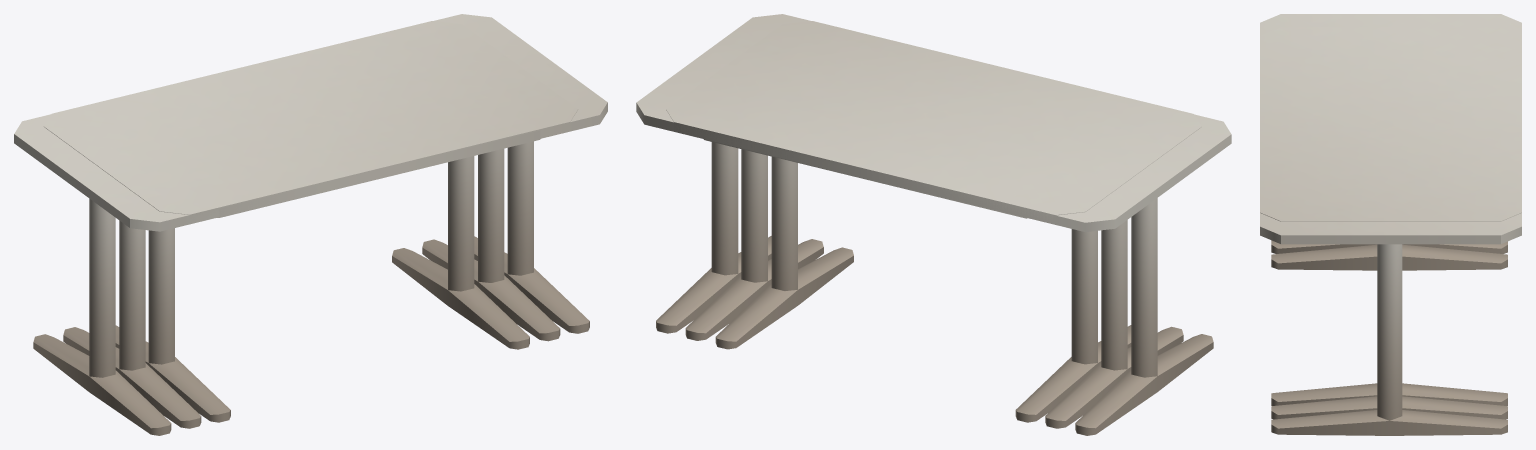
The model's file is Desks.FBX.
3 renders of one model, left to right at view 1: azimuth 30°, elevation 25°; view 2: azimuth 150°, elevation 25°; view 3: azimuth 270°, elevation 25°, orthographic. The views are drawn at different scales.
Visible parts, largest first — view 1: Desk140, Desk160, Desk120; view 2: Desk140, Desk160, Desk120; view 3: Desk140, Desk160, Desk120.
Boxes of the visible parts, left/top/right/bottom form: Desk140: left=44, top=21, right=578, bottom=428; Desk160: left=14, top=14, right=607, bottom=435; Desk120: left=115, top=130, right=540, bottom=422; Desk140: left=666, top=21, right=1201, bottom=428; Desk160: left=636, top=14, right=1231, bottom=435; Desk120: left=703, top=139, right=1131, bottom=422; Desk140: left=1260, top=27, right=1521, bottom=419; Desk160: left=1260, top=14, right=1521, bottom=435; Desk120: left=1271, top=244, right=1507, bottom=405.
Size of the model in its own units: 62.97 by 27.84 by 31.5.
